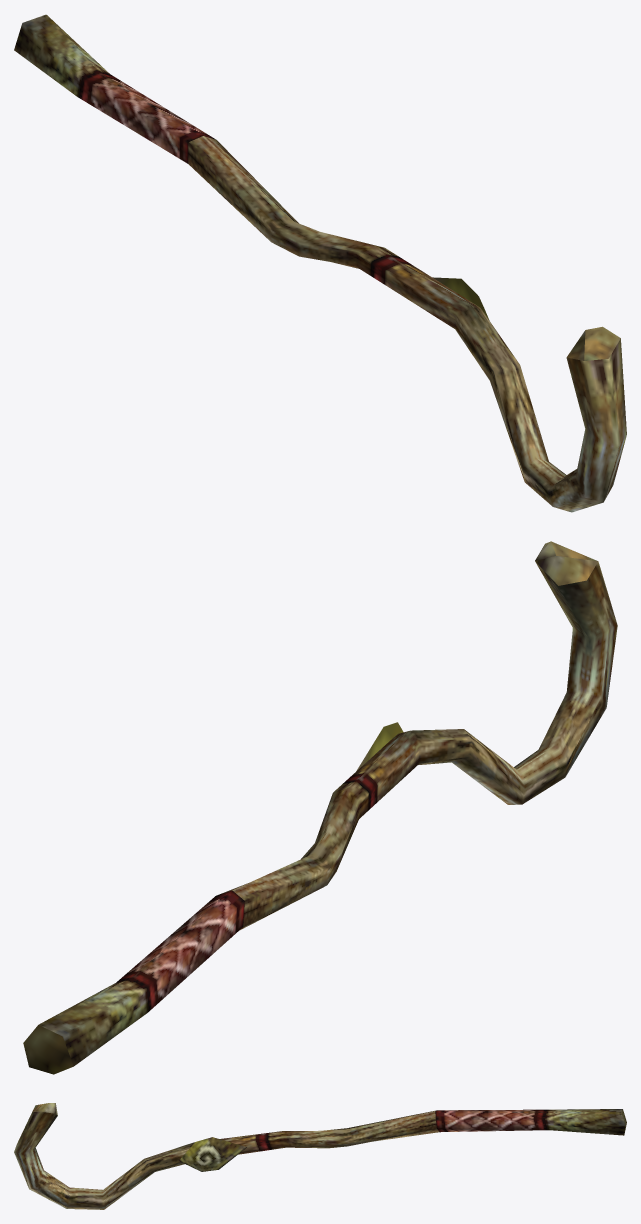
Rendered from wac12.glb.
3 views of the same model, one above another, from view 1: azimuth 30°, elevation 25°; view 2: azimuth 150°, elevation 25°; view 3: azimuth 270°, elevation 25° (orthographic). The views are drawn at different scales.
Visible parts, largest first — view 1: wac12; view 2: wac12; view 3: wac12.
Boxes of the visible parts, <box> form: wac12: <box>14,14,626,512</box>; wac12: <box>23,541,617,1074</box>; wac12: <box>14,1103,626,1209</box>.
Bounding box in the file's own units: 0.1475 × 0.2588 × 1.31.
Materials: 1 (1 with a texture image).
